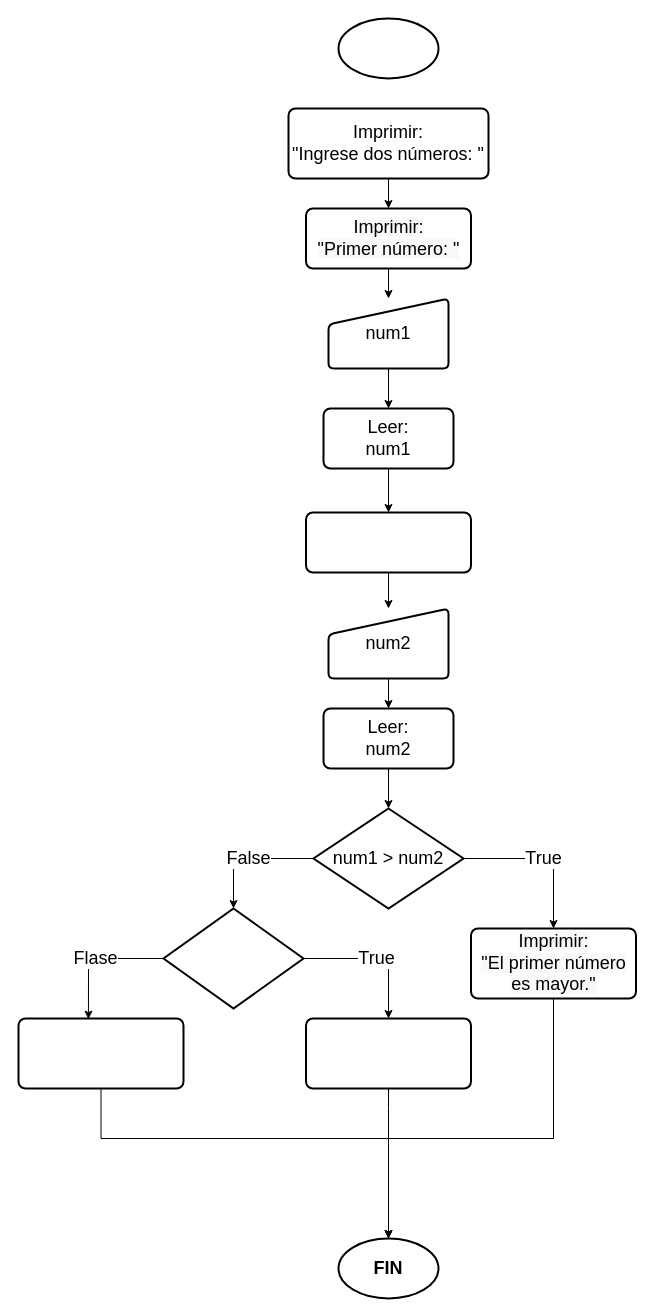
This 654x1316 diagram has some shape labels left out. The shapes that lost their labels are listed below. From the top down, each one's centre as x and y in pixels, then its label:
point (388, 48): INICIO
point (388, 542): Imprimir: "Segundo número: "
point (233, 958): num2 > num1
point (100, 1053): Imprimir: ""Los números son iguales.
point (388, 1053): Imprimir: "El segundo número es mayor."
